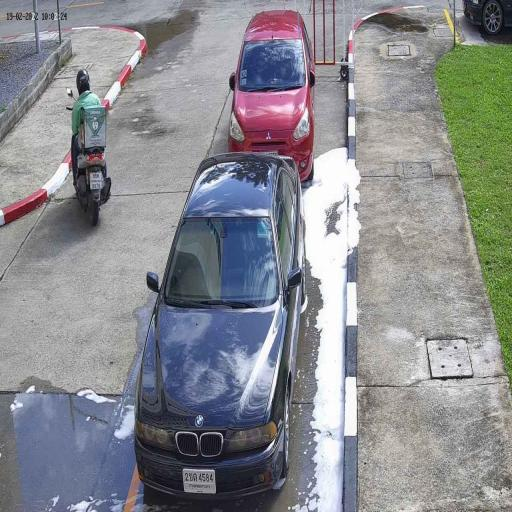car: (133, 151, 306, 503), (227, 10, 316, 184)
motorcycle: (69, 103, 113, 232)
